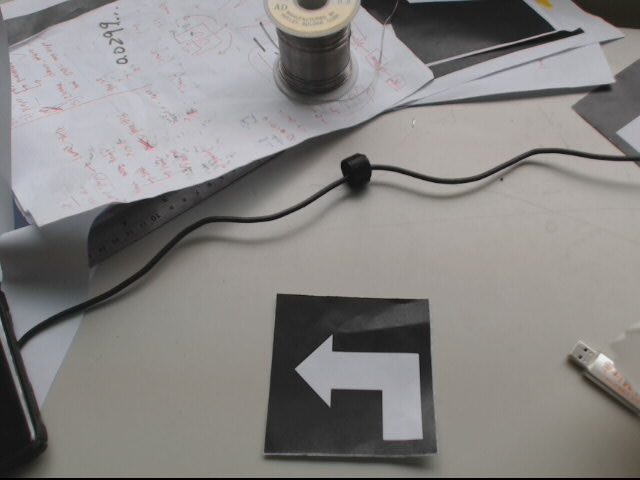left: (265, 294, 436, 456)
